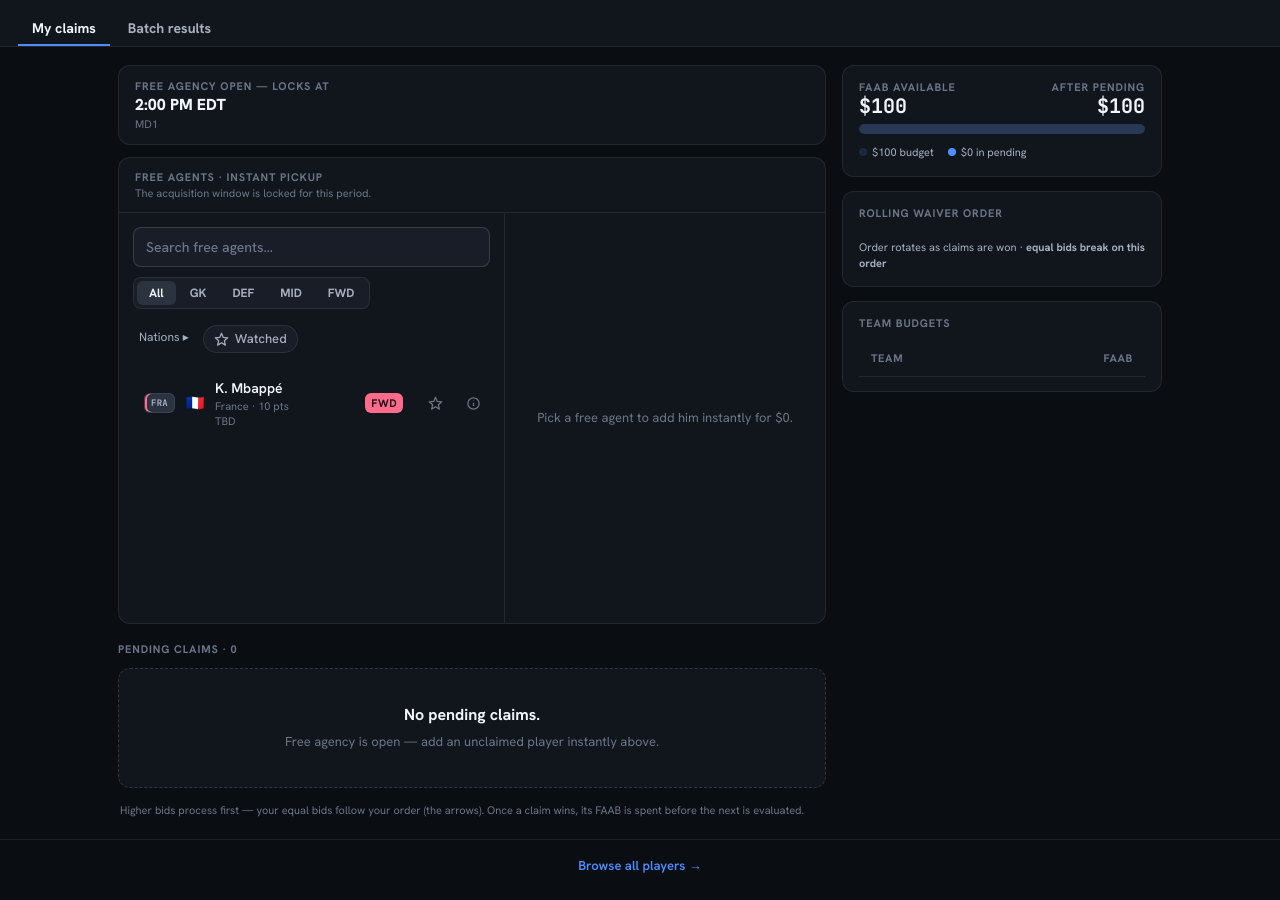
Waivers FA tab — instant $0 free-agency grant (the wiring P48 was missing) › locked: the FA add is disabled (the acquisition window is closed)
The image size is (1280, 900).
Click the button "FRA 🇫🇷 K. Mbappé France · 10 pts TBD FWD" at (274, 403), box [133,369,414,437]
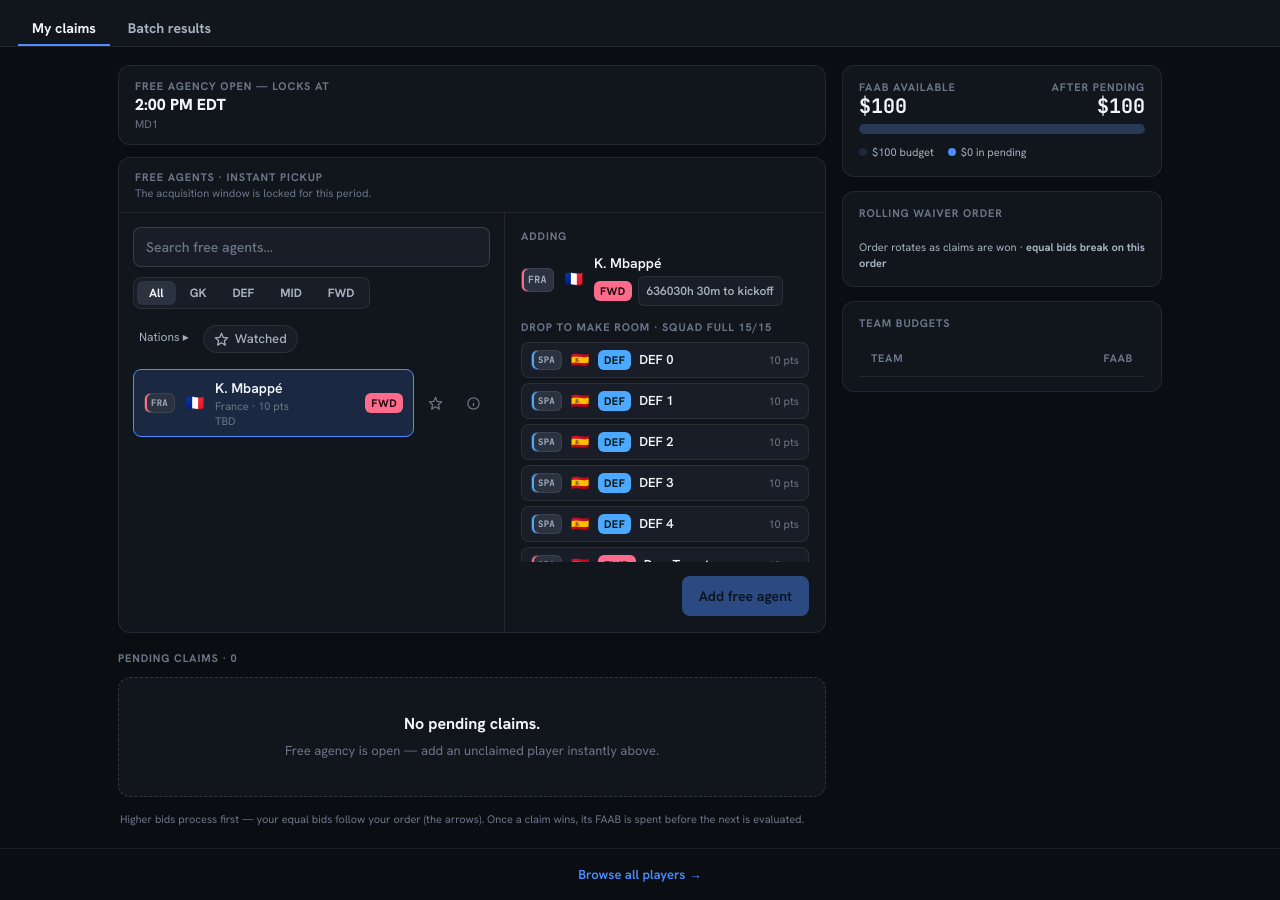
Check: the button "Add free agent" is disabled, box [682,576,809,616]
